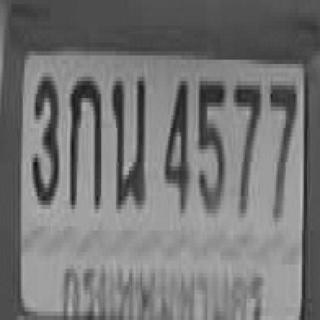A01: (68, 73, 100, 205)
A25: (111, 70, 144, 207)
N03: (31, 72, 57, 200)
N04: (163, 77, 188, 209)
N05: (198, 77, 224, 209)
N07: (268, 81, 296, 218), (232, 81, 260, 209)
P04: (59, 252, 266, 320)
